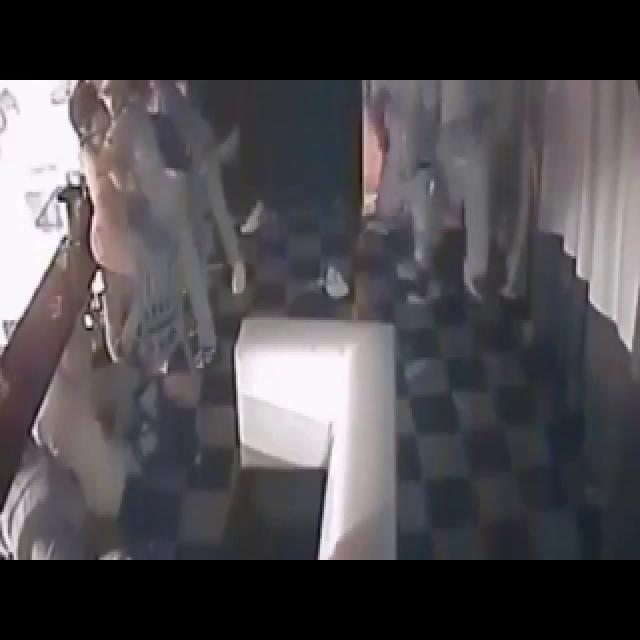shooting: (58, 92, 243, 420)
